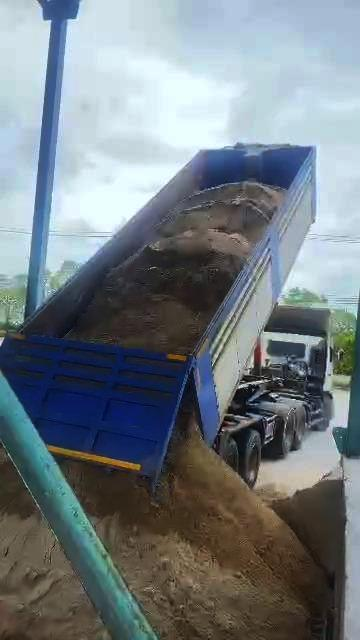sand: (63, 416, 328, 639), (68, 182, 283, 353), (0, 451, 106, 638), (272, 469, 344, 575)
